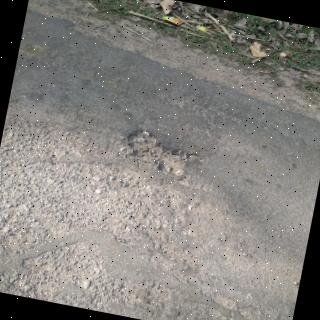pothole: (126, 129, 188, 178)
